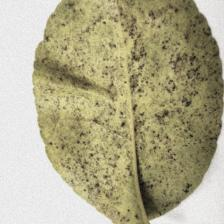canker: (56, 31, 197, 158)
